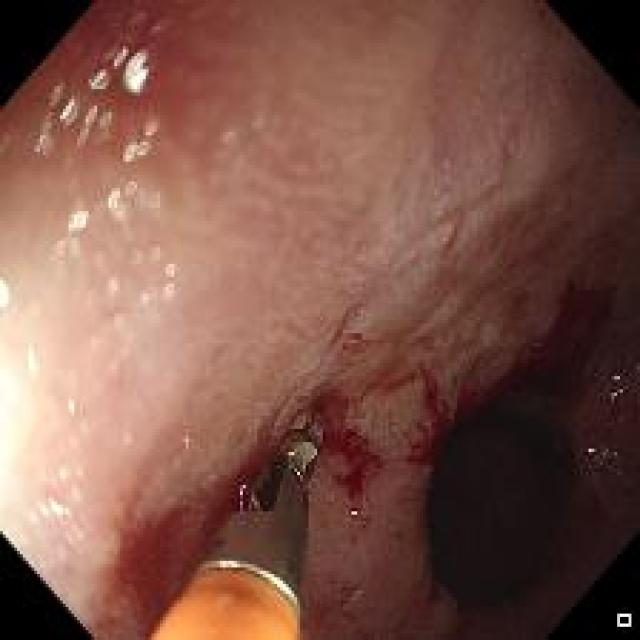blood: (298, 379, 383, 497)
blur: (2, 3, 468, 272), (2, 276, 261, 596)
color misalignment: (587, 438, 624, 480), (134, 189, 164, 218), (38, 116, 54, 158), (604, 375, 627, 401), (235, 483, 250, 514), (145, 243, 165, 265), (82, 106, 105, 125), (98, 109, 116, 131), (47, 84, 64, 106), (105, 12, 125, 30), (110, 310, 127, 331), (128, 250, 144, 271), (106, 359, 122, 379), (132, 7, 148, 27), (143, 119, 160, 136), (106, 275, 120, 295), (164, 274, 176, 296), (138, 288, 154, 304), (79, 122, 90, 144), (234, 149, 247, 167), (162, 254, 173, 275), (152, 19, 166, 35), (137, 136, 147, 158), (1, 132, 10, 156), (123, 143, 136, 159), (251, 117, 264, 132), (220, 128, 233, 141)
contrast: (422, 298, 635, 637)
instrument: (150, 410, 330, 638)
saturation: (5, 238, 81, 575)
specularity: (24, 499, 88, 534), (67, 206, 88, 259), (122, 52, 146, 94), (264, 573, 295, 603), (107, 183, 130, 219), (22, 345, 41, 382), (108, 42, 132, 69), (56, 94, 78, 121), (216, 556, 244, 573), (345, 502, 359, 527), (63, 394, 78, 415), (89, 71, 102, 92), (60, 460, 71, 484), (72, 489, 85, 505), (286, 449, 295, 459), (4, 280, 7, 309)
